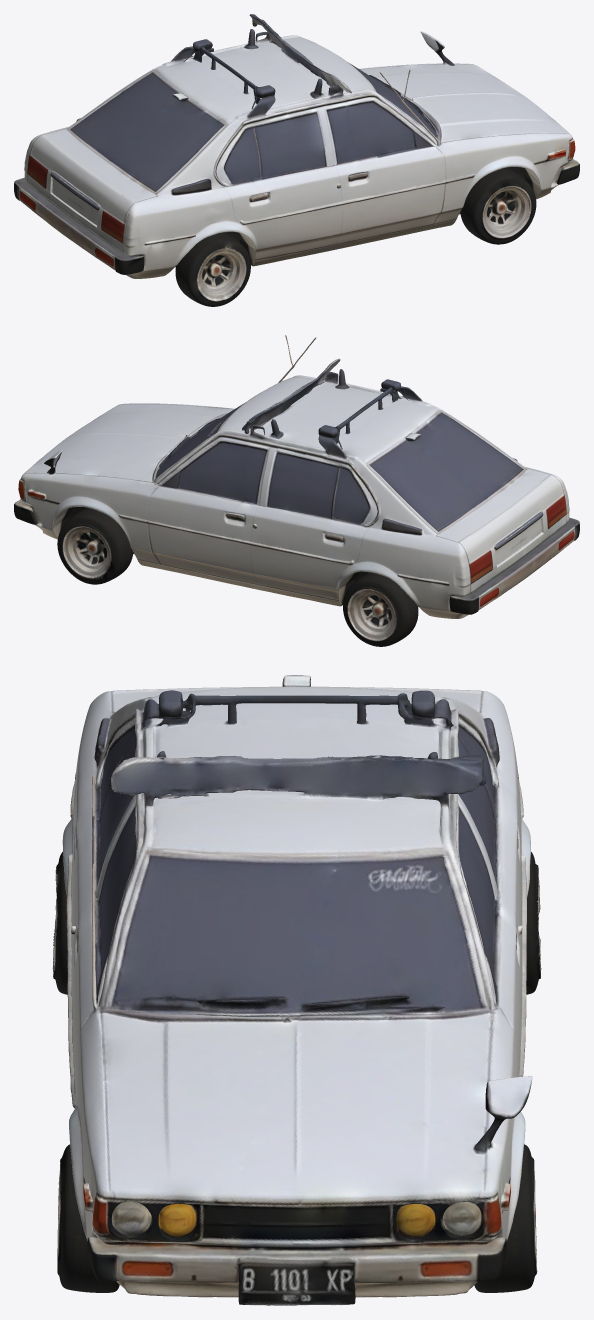
Rendered from toyota_corrolla_dx.glb.
3 views of the same model, one above another, from view 1: azimuth 30°, elevation 25°; view 2: azimuth 150°, elevation 25°; view 3: azimuth 270°, elevation 25° (orthographic). The views are drawn at different scales.
Visible parts, largest first — view 1: tripo_node_4b0e79a3-f14c-405c-a521-5e183283cba9_1; view 2: tripo_node_4b0e79a3-f14c-405c-a521-5e183283cba9_1; view 3: tripo_node_4b0e79a3-f14c-405c-a521-5e183283cba9_1.
Boxes of the visible parts, x1,y1,x2,y2 form: tripo_node_4b0e79a3-f14c-405c-a521-5e183283cba9_1: (14,14,579,306); tripo_node_4b0e79a3-f14c-405c-a521-5e183283cba9_1: (14,335,579,646); tripo_node_4b0e79a3-f14c-405c-a521-5e183283cba9_1: (52,675,541,1305).
Size of the model in its own units: 0.9998 by 0.4006 by 0.4492.
1 material, 1 textured.
